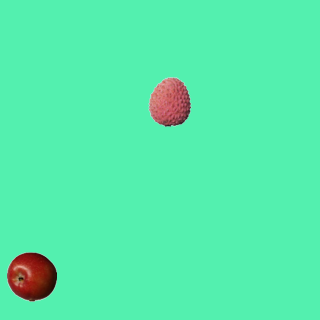Apple Braeburn: (6, 251, 56, 301)
Lychee: (144, 76, 194, 126)
